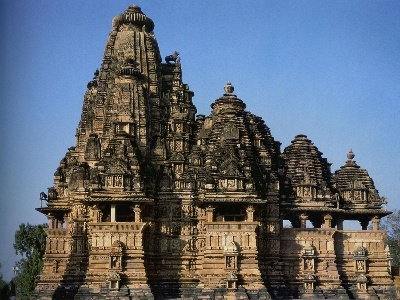amalaka: (108, 7, 171, 39)
gopuram: (94, 25, 180, 157)
mandapa: (282, 193, 395, 243), (80, 187, 161, 233), (199, 187, 268, 229)
